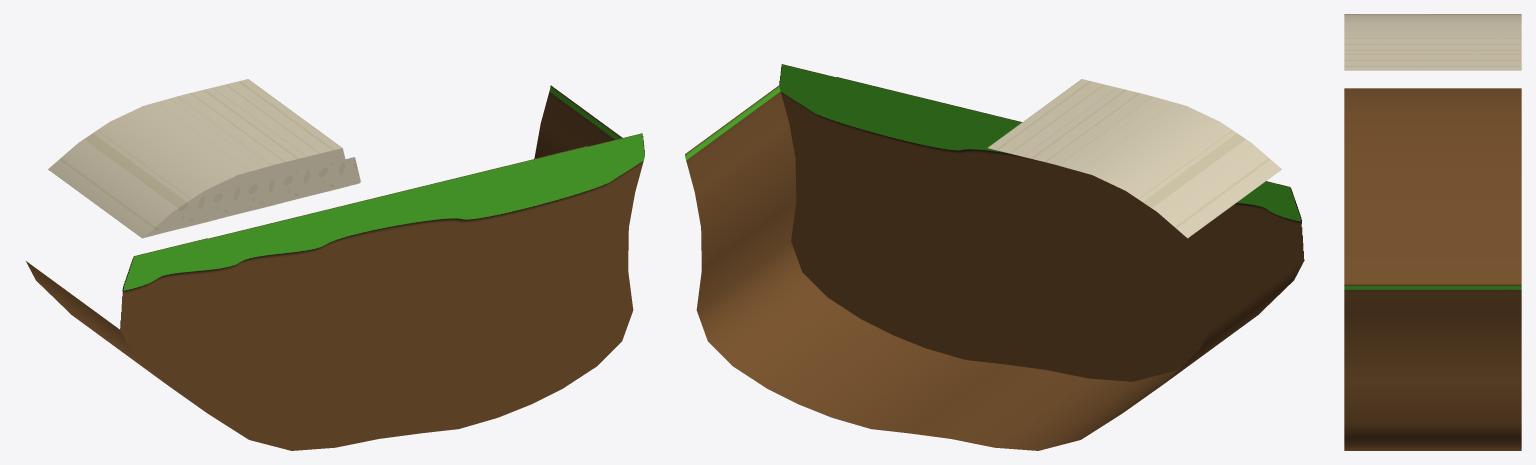
File: goo.dae
The picture shows the model from 3 angles, left to right: view 1: azimuth 30°, elevation 25°; view 2: azimuth 150°, elevation 25°; view 3: azimuth 270°, elevation 25°; orthographic projection. The views are drawn at different scales.
Parts seen in each view (by area): view 1: NurbsCircle; view 2: NurbsCircle; view 3: NurbsCircle.
Boxes of the visible parts, x1=… form: NurbsCircle: x1=26, y1=79, x2=644, y2=450; NurbsCircle: x1=685, y1=64, x2=1304, y2=450; NurbsCircle: x1=1344, y1=14, x2=1521, y2=450.
Size of the model in its own units: 3.35 by 1.01 by 1.83.
